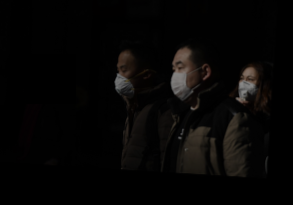with_mask: (169, 59, 195, 101), (114, 62, 136, 97), (236, 73, 257, 102)
